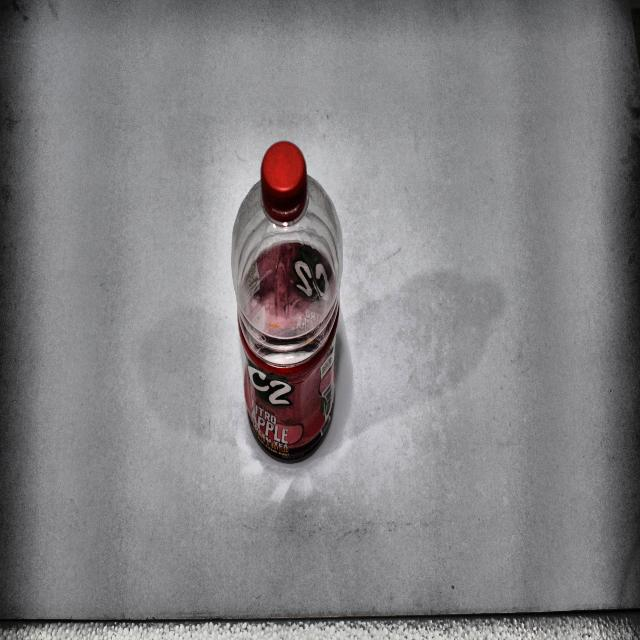Bottles: (227, 128, 346, 465)
